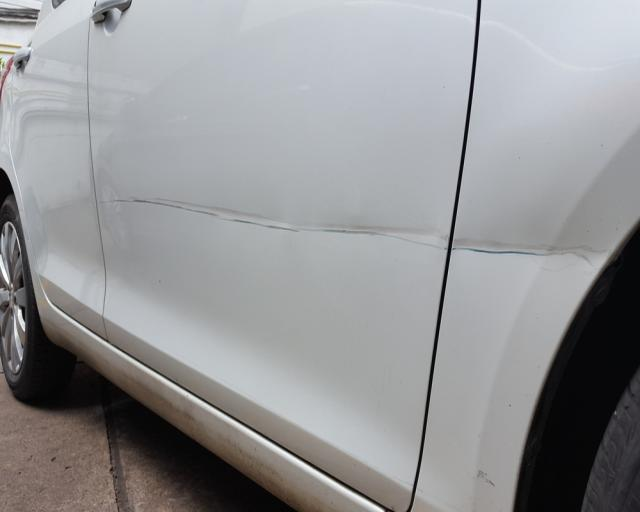scratch: (107, 194, 450, 251), (451, 236, 611, 270)
